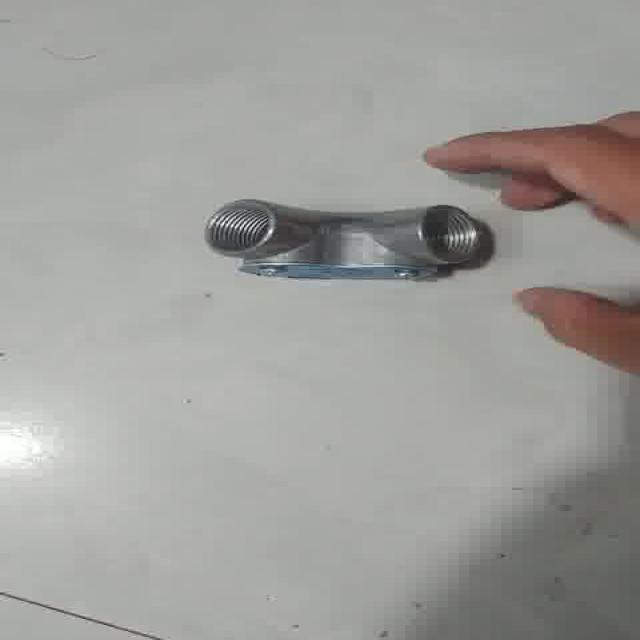Dry: (202, 195, 483, 282)
